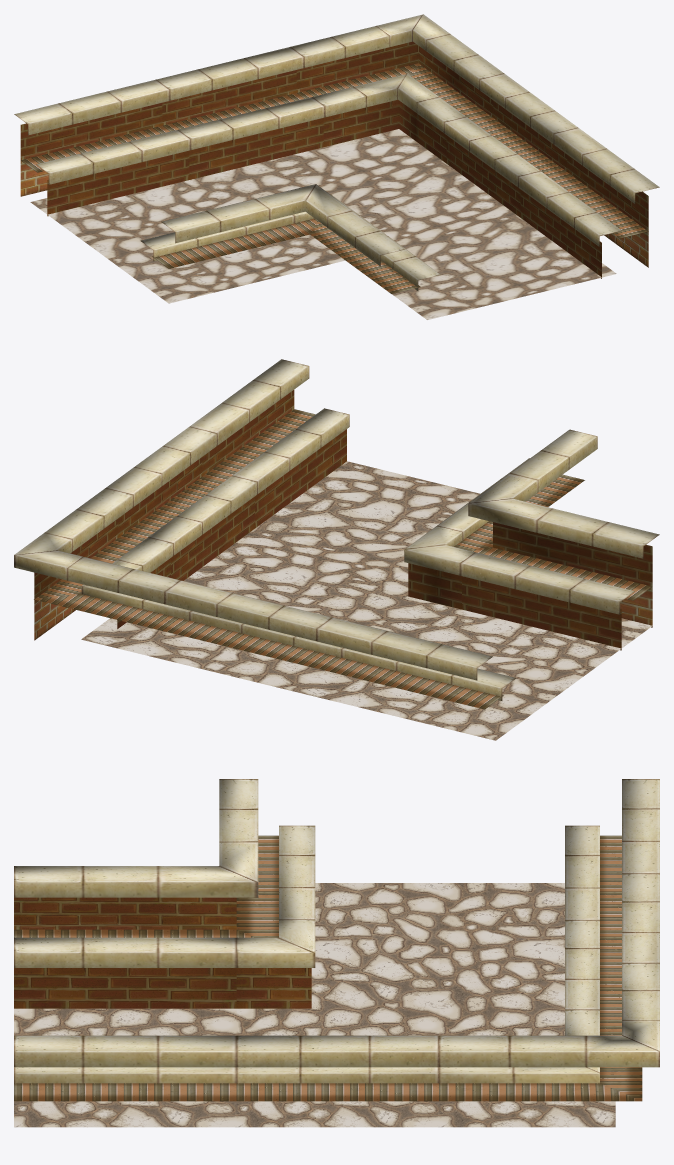
The model's file is a_SEwater02.glb.
The picture shows the model from 3 angles, top to bottom: view 1: azimuth 30°, elevation 25°; view 2: azimuth 150°, elevation 25°; view 3: azimuth 270°, elevation 25°; orthographic projection. The views are drawn at different scales.
Parts seen in each view (by area): view 1: a_SEwater02; view 2: a_SEwater02; view 3: a_SEwater02.
Boxes of the visible parts, box(x1,y1,x2,y2) form: a_SEwater02: box(14, 14, 659, 319); a_SEwater02: box(14, 359, 659, 740); a_SEwater02: box(14, 779, 659, 1127).
Size of the model in its own units: 6.1 by 1.11 by 6.1.
2 materials, 2 textured.
